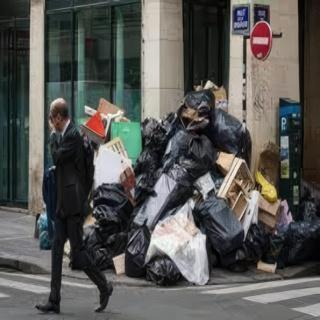Garbage: (192, 196, 244, 256), (207, 108, 253, 163), (163, 129, 215, 168), (93, 182, 131, 234), (284, 219, 319, 267), (124, 221, 149, 276), (143, 254, 180, 286)
